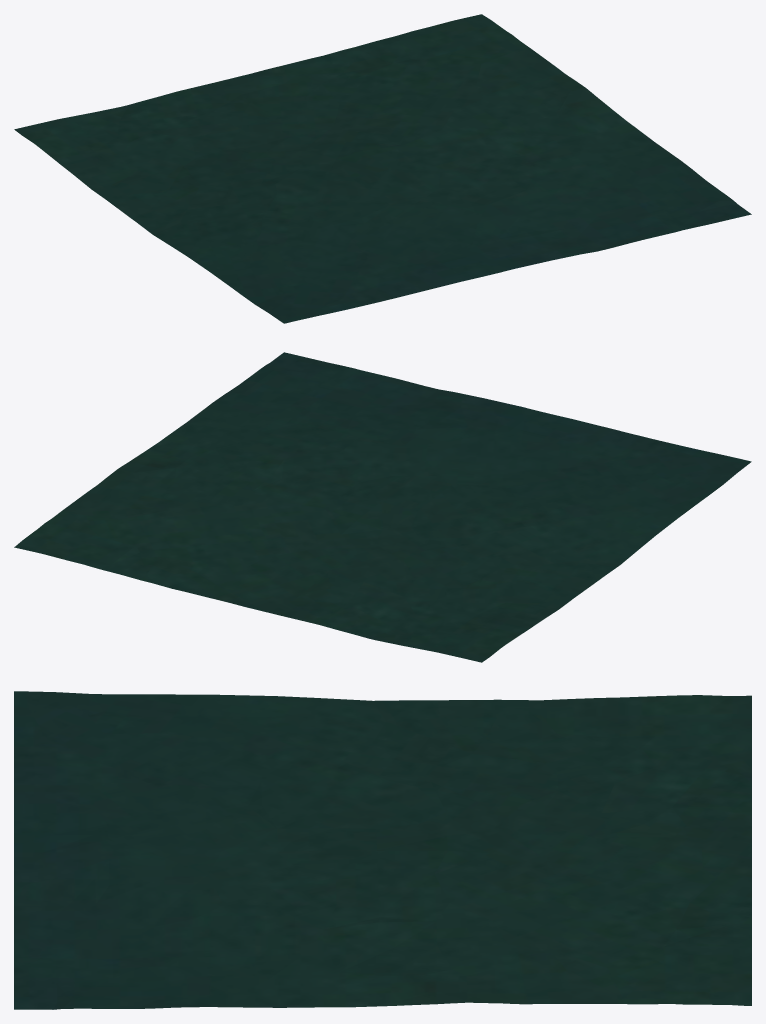
3 renders of one model, top to bottom at view 1: azimuth 30°, elevation 25°; view 2: azimuth 150°, elevation 25°; view 3: azimuth 270°, elevation 25°, orthographic. The views are drawn at different scales.
Size of the model in its own units: 52.22 by 0.8234 by 52.22.
Materials: 2 (2 with a texture image).
